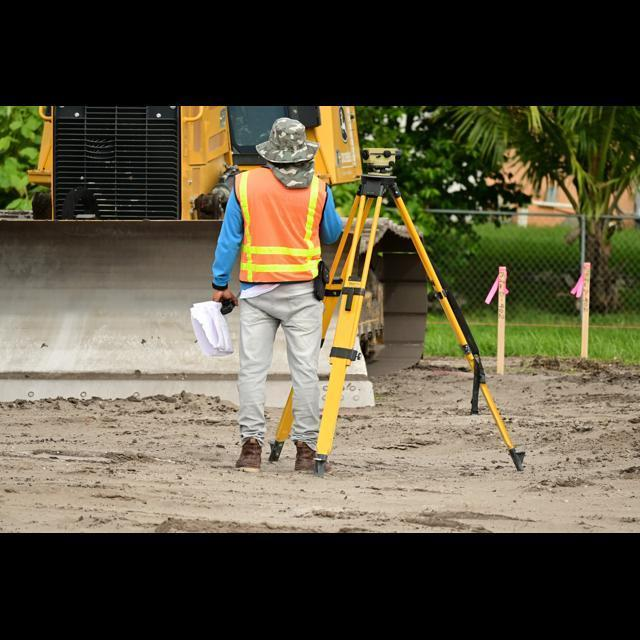safety_vest: (222, 158, 332, 292)
